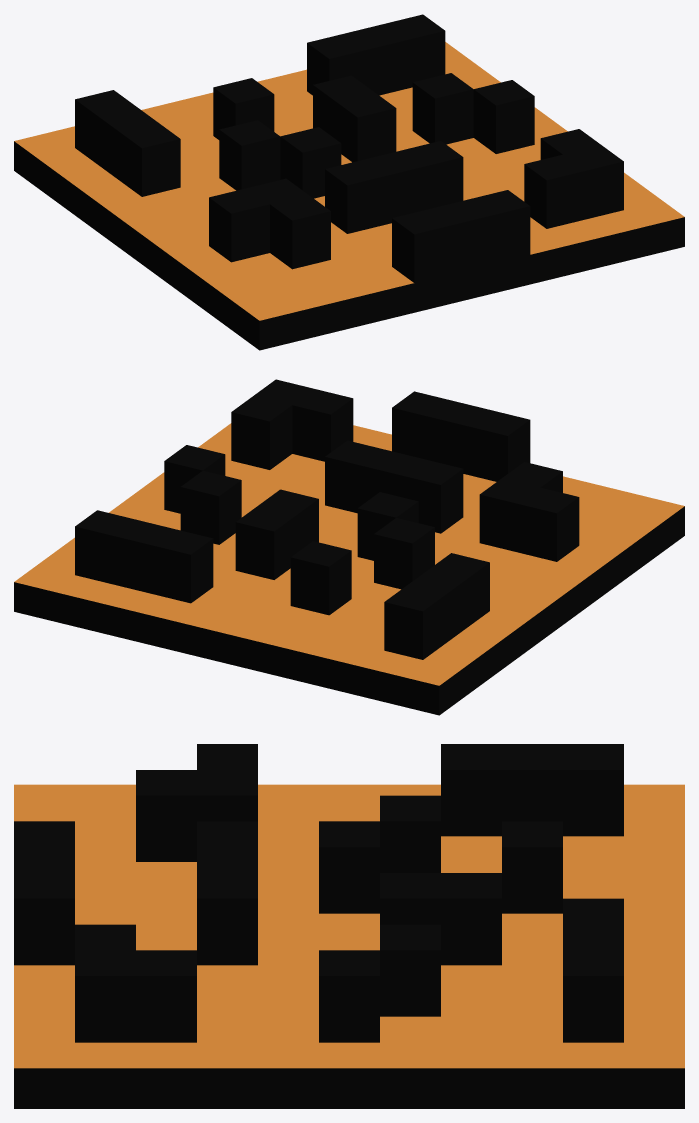
File: map.fbx
The picture shows the model from 3 angles, top to bottom: view 1: azimuth 30°, elevation 25°; view 2: azimuth 150°, elevation 25°; view 3: azimuth 270°, elevation 25°; orthographic projection. The views are drawn at different scales.
Visible parts, largest first — view 1: Cube; view 2: Cube; view 3: Cube.
Part boxes in pixels (x1,y1,x2,y2): Cube: [14, 14, 684, 350]; Cube: [14, 379, 684, 715]; Cube: [14, 744, 684, 1108].
Size of the model in its own units: 3000 by 528 by 3000.
